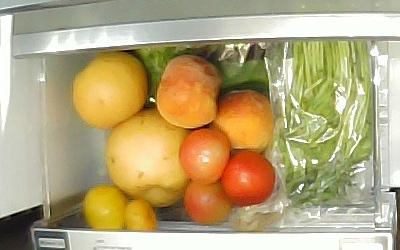peach: (157, 54, 221, 128), (211, 88, 273, 154)
pear: (102, 107, 193, 206), (71, 50, 147, 126)
tangerine: (83, 185, 128, 231), (124, 198, 158, 232)
tomato: (222, 150, 274, 206), (180, 127, 230, 184), (184, 178, 231, 224)
